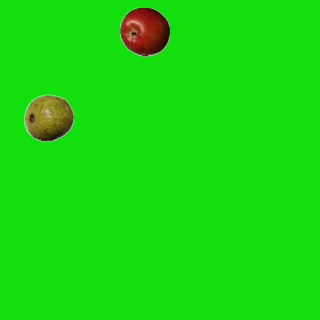Apple Braeburn: (119, 6, 169, 56)
Guava: (23, 92, 73, 142)
